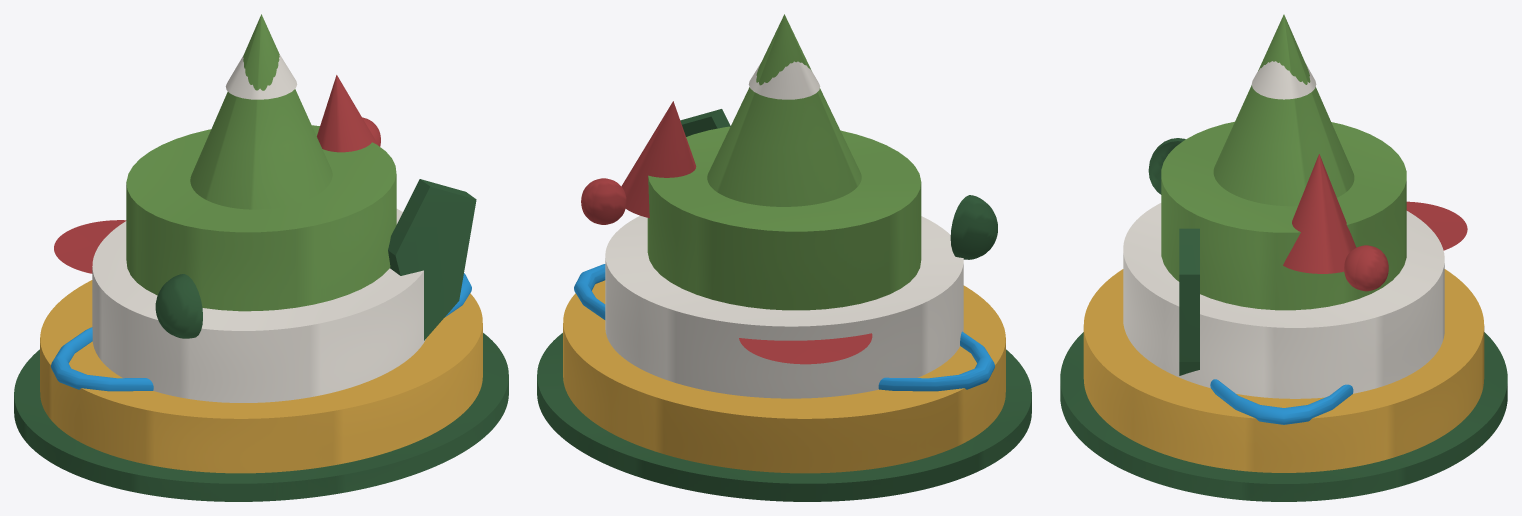
The model's file is 0640_地貌图鉴_张掖彩丘.glb.
3 views of the same model, side by side, from view 1: azimuth 30°, elevation 25°; view 2: azimuth 150°, elevation 25°; view 3: azimuth 270°, elevation 25° (orthographic).
Visible parts, largest first — view 1: card_0640; view 2: card_0640; view 3: card_0640.
Part boxes in pixels (x1=…): card_0640: x1=14, y1=14, x2=508, y2=501; card_0640: x1=537, y1=14, x2=1031, y2=501; card_0640: x1=1060, y1=14, x2=1507, y2=501.
Bounding box in the file's own units: 1.18 × 1 × 1.06.
